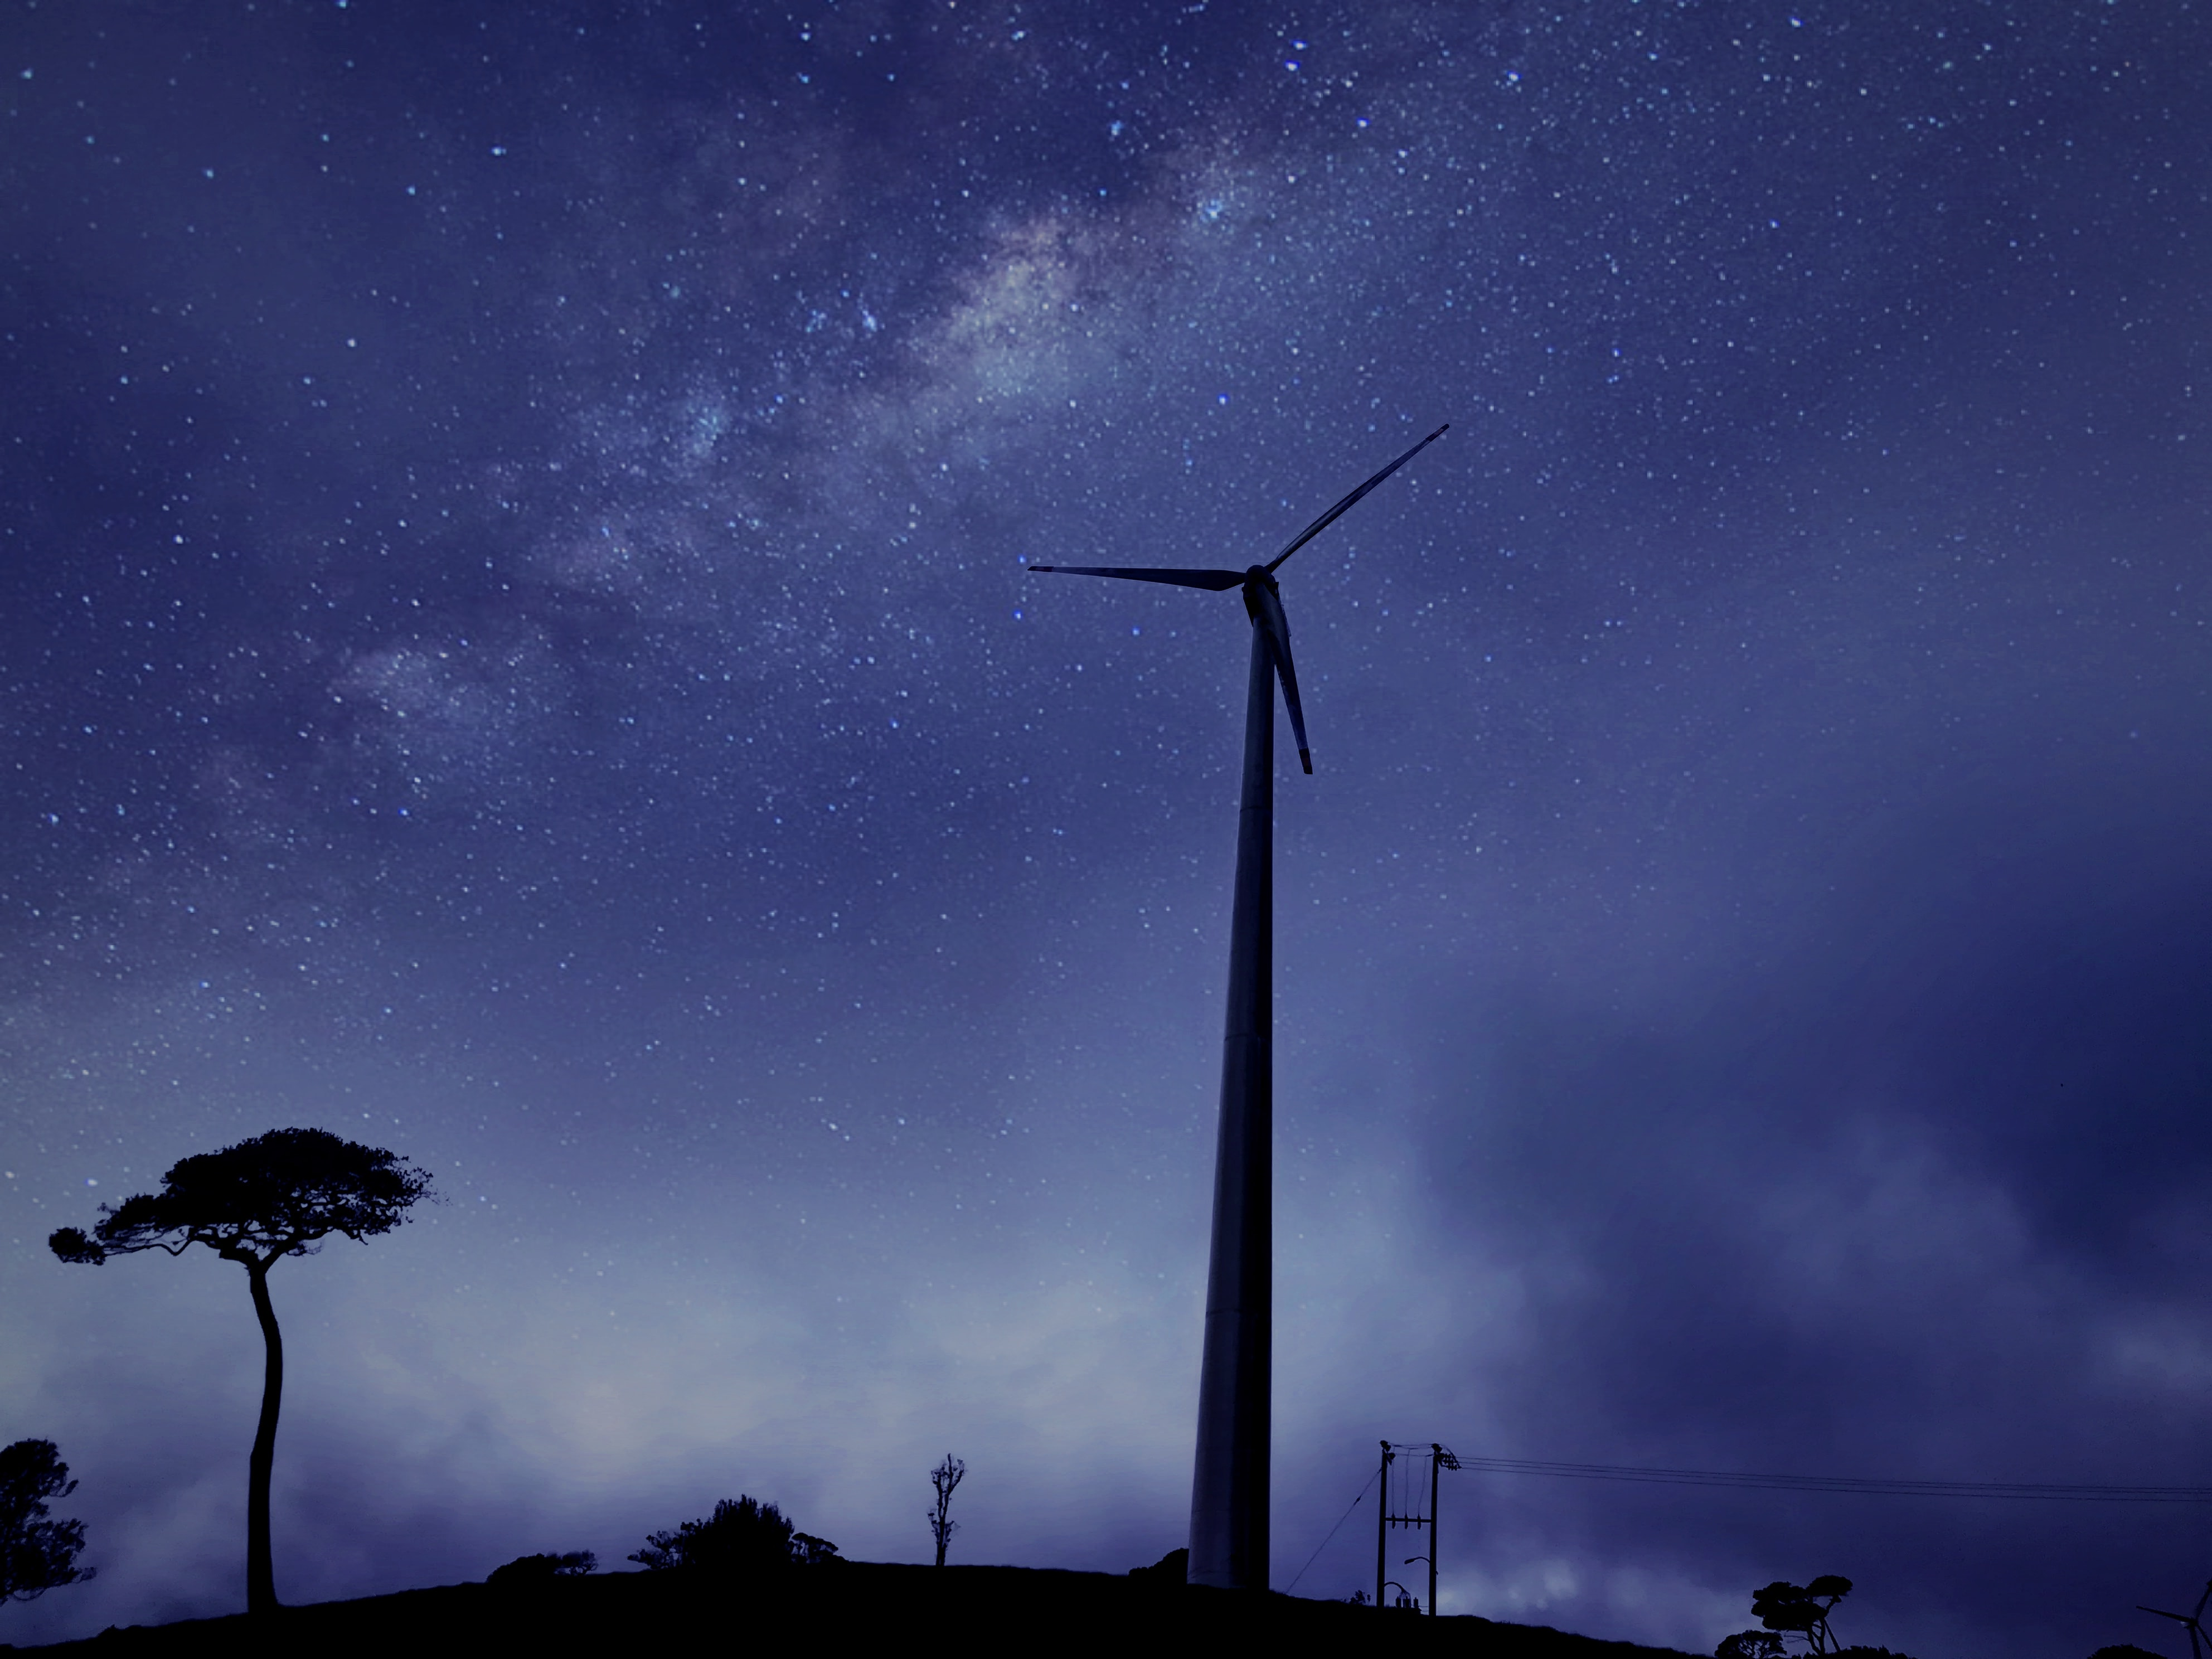working: (995, 418, 1498, 821)
